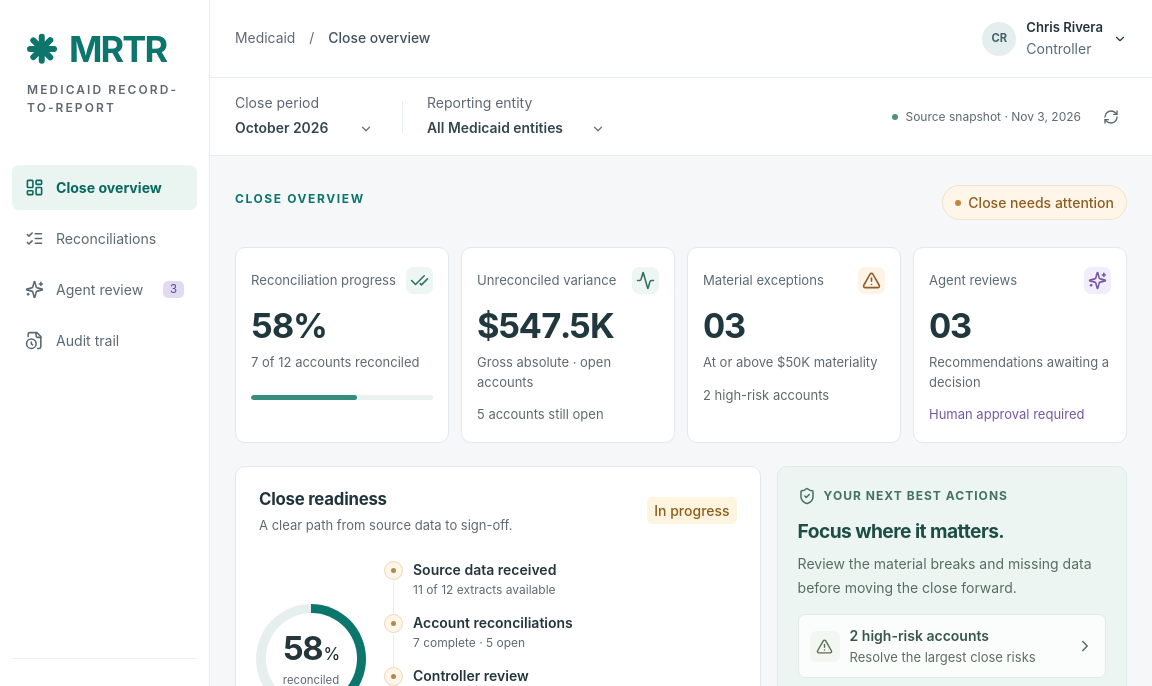
Test: Controller workflow › updates all overview metrics when the period and entity change
Expected: the element named "Close summary" is shown, [235, 247, 1127, 442]
Select "Medicaid · New Jersey" in the dropdown labelled "Reporting entity" at [518, 128], box [427, 116, 610, 141]
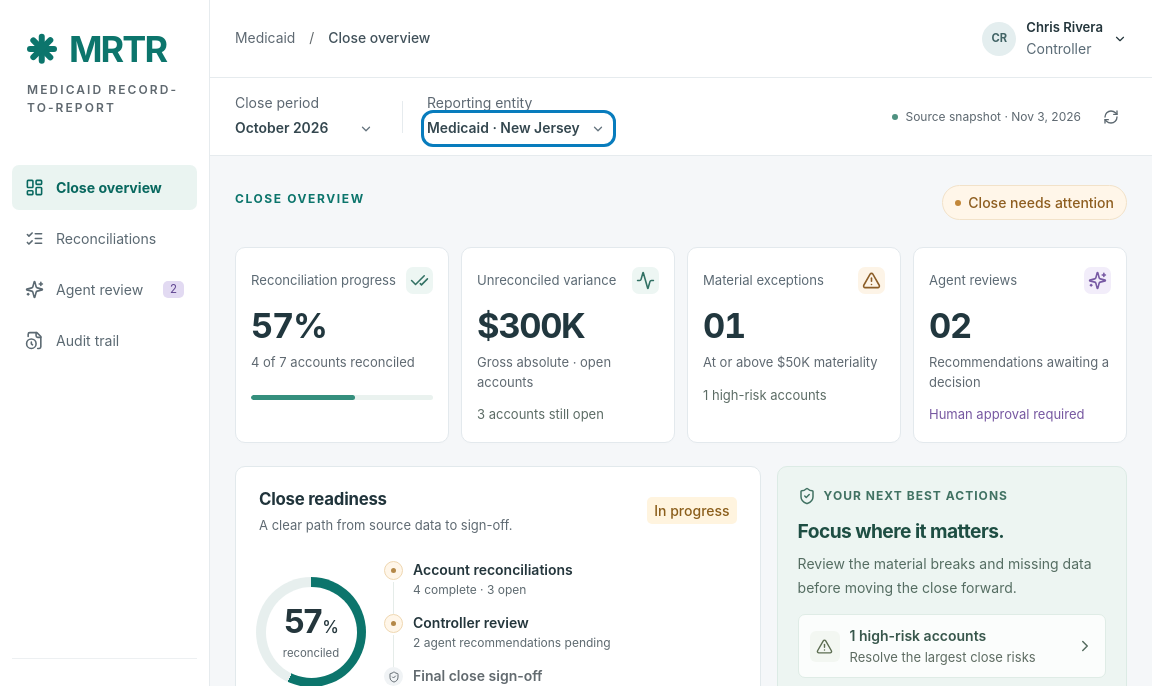
Now the button "Reconciliation progress 57% 4 of 7 accounts reconciled" is shown, box [235, 247, 449, 442]
Select "September 2026" in the dropdown labelled "Close period" at [306, 128], box [235, 116, 378, 141]
(page scrolled)
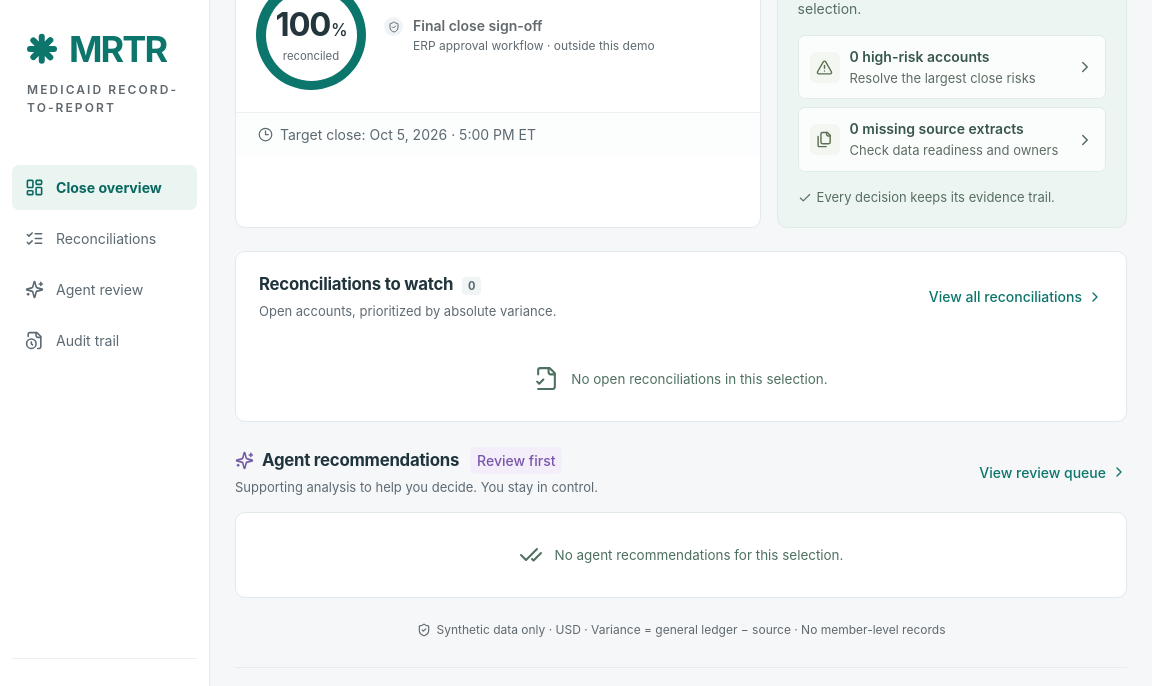
Now the text "No agent recommendations for this selection." is shown, box [555, 544, 844, 565]
